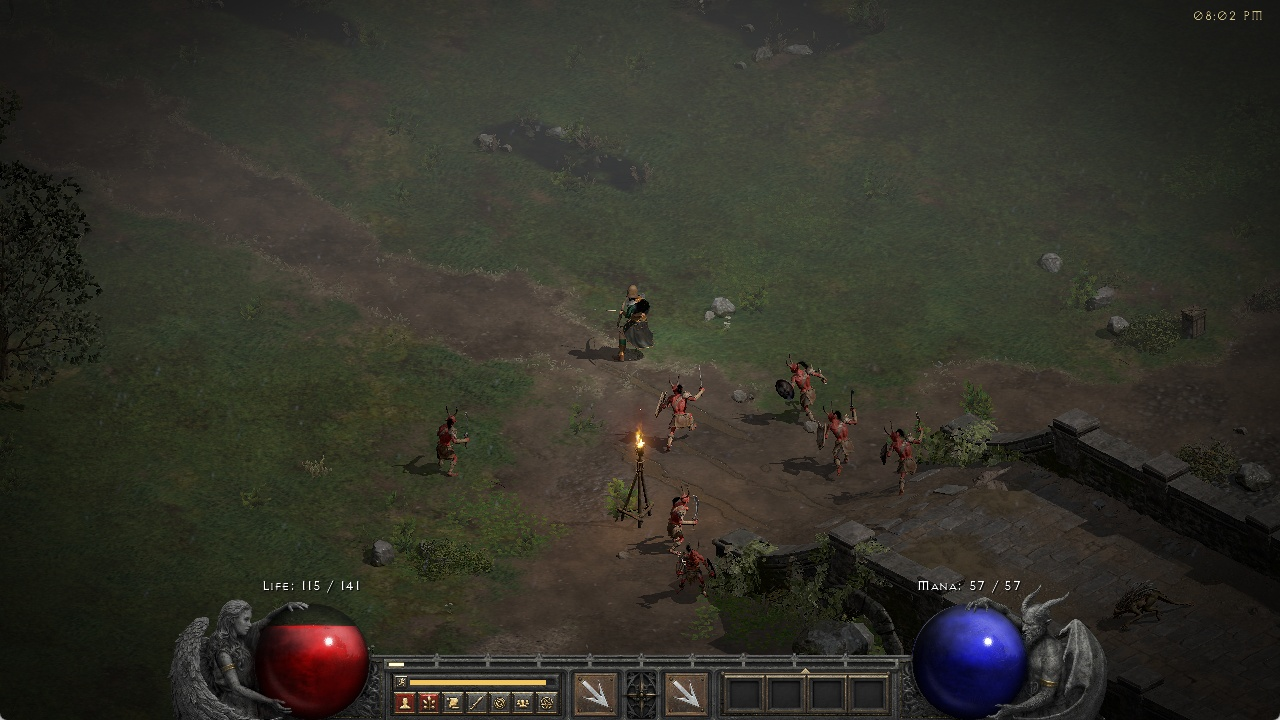fallen: (654, 367, 709, 455), (876, 410, 923, 491), (821, 391, 860, 472), (430, 402, 468, 482), (659, 486, 709, 541), (775, 355, 823, 412), (673, 544, 716, 593)
